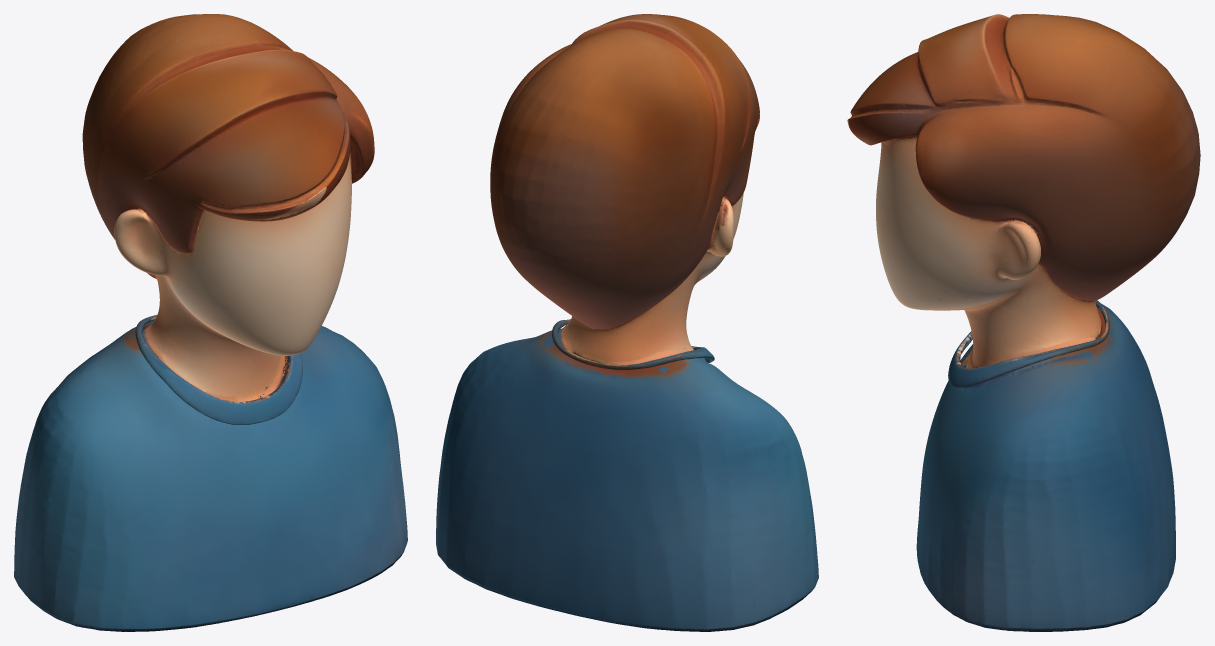
The model's file is student.glb.
The picture shows the model from 3 angles, left to right: view 1: azimuth 30°, elevation 25°; view 2: azimuth 150°, elevation 25°; view 3: azimuth 270°, elevation 25°; orthographic projection. The views are drawn at different scales.
Visible parts, largest first — view 1: model; view 2: model; view 3: model.
Part boxes in pixels (x1=…): model: x1=14, y1=14, x2=407, y2=631; model: x1=436, y1=14, x2=818, y2=631; model: x1=847, y1=14, x2=1200, y2=631.
Size of the model in its own units: 1.31 by 1.9 by 1.16.
Materials: 1 (1 with a texture image).
